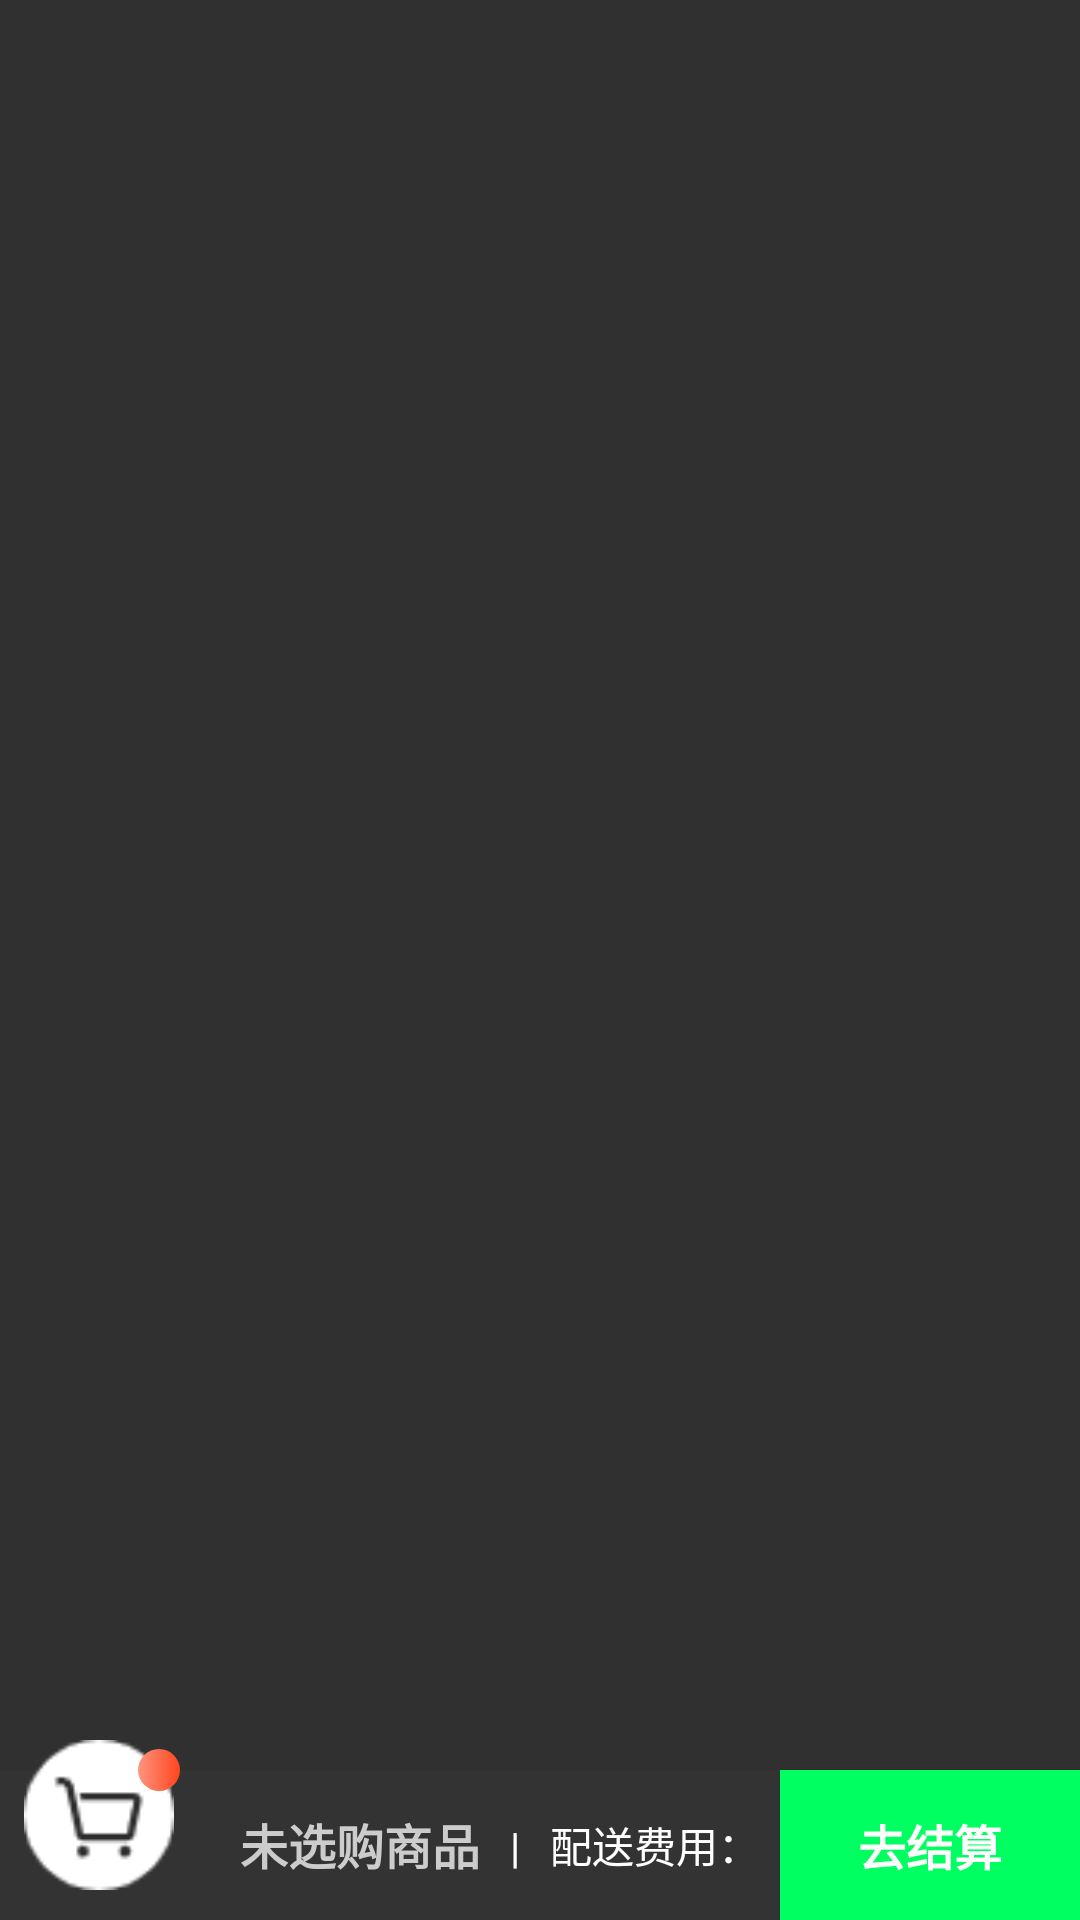

Icon bounding boxes for this 1080x1920 phone screenshot, format box(x1, y1, x2, y2):
cart: box(24, 1740, 174, 1890)
